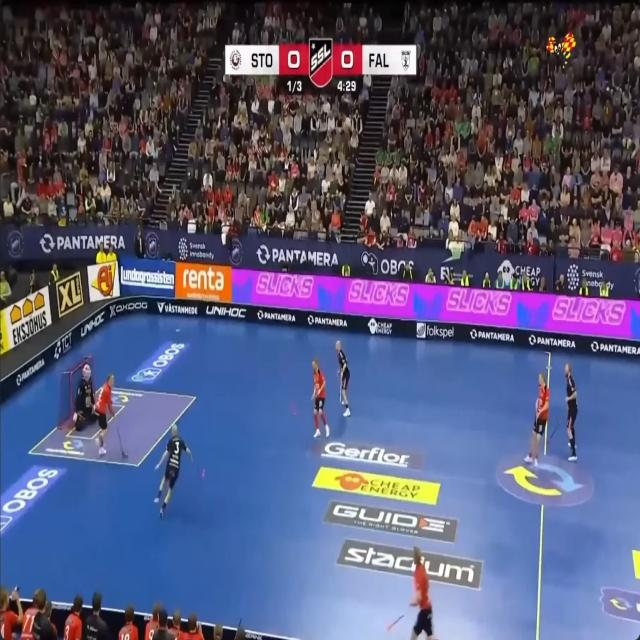player: (155, 423, 192, 517), (525, 373, 550, 466), (410, 546, 433, 639), (72, 363, 97, 431), (94, 375, 114, 455), (564, 364, 578, 461), (312, 358, 329, 436), (0, 586, 23, 637), (336, 341, 350, 415), (64, 594, 83, 639), (118, 605, 138, 639), (64, 637, 66, 639)
stick: (116, 424, 128, 457), (387, 614, 404, 631), (549, 422, 559, 439), (234, 618, 242, 639), (339, 371, 342, 401)
